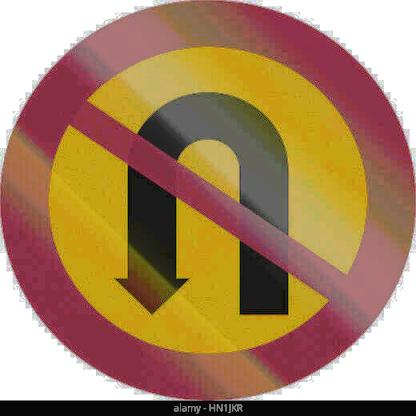No U-turn: (0, 0, 416, 397)
